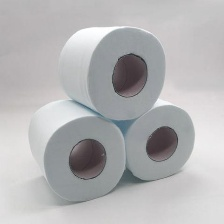tissue: (52, 20, 172, 125), (23, 92, 130, 206), (103, 93, 198, 185)
